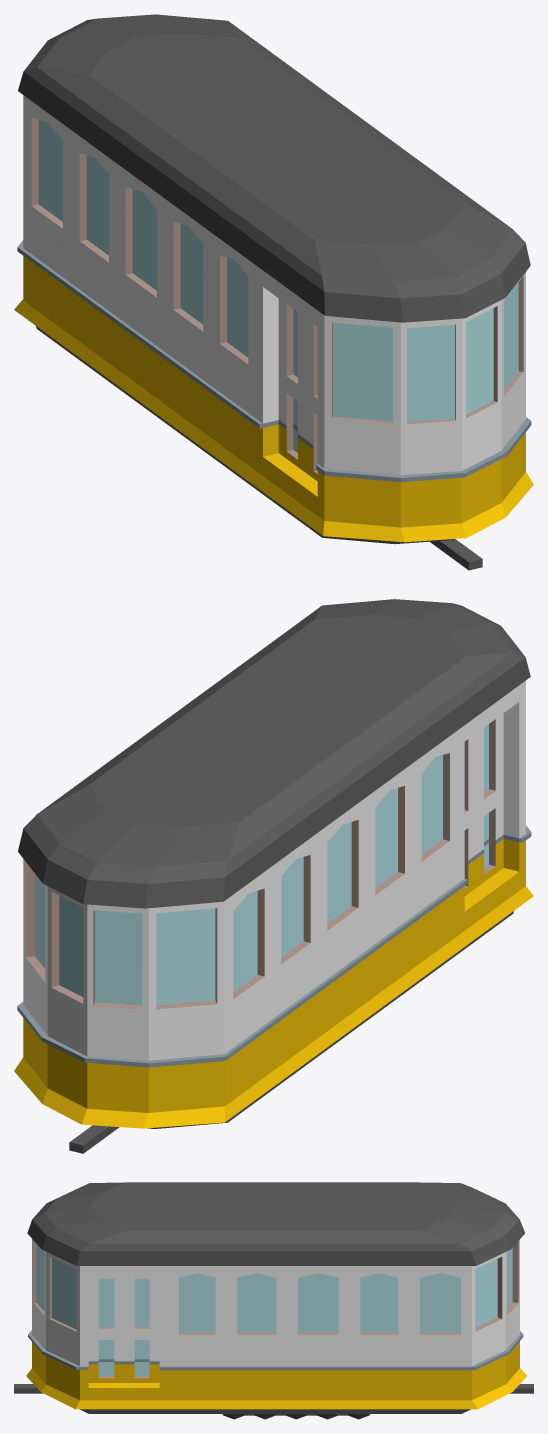
File: Tram_01.gltf
3 renders of one model, top to bottom at view 1: azimuth 30°, elevation 25°; view 2: azimuth 150°, elevation 25°; view 3: azimuth 270°, elevation 25°, orthographic. The views are drawn at different scales.
Parts seen in each view (by area): view 1: node-0; view 2: node-0; view 3: node-0.
Part boxes in pixels (bbox=[...]): node-0: bbox=[14, 14, 533, 570]; node-0: bbox=[14, 599, 533, 1153]; node-0: bbox=[14, 1182, 533, 1419].
Bounding box in the file's own units: 3.23 × 4.41 × 10.61.
